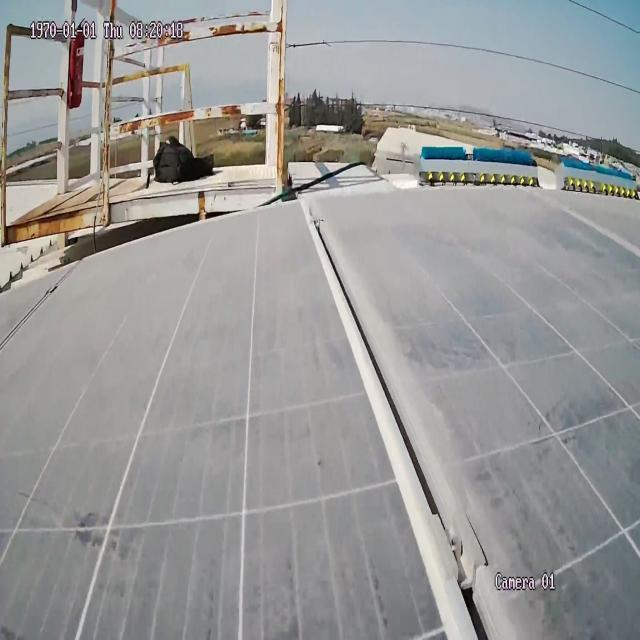interior panel: (271, 183, 567, 640)
